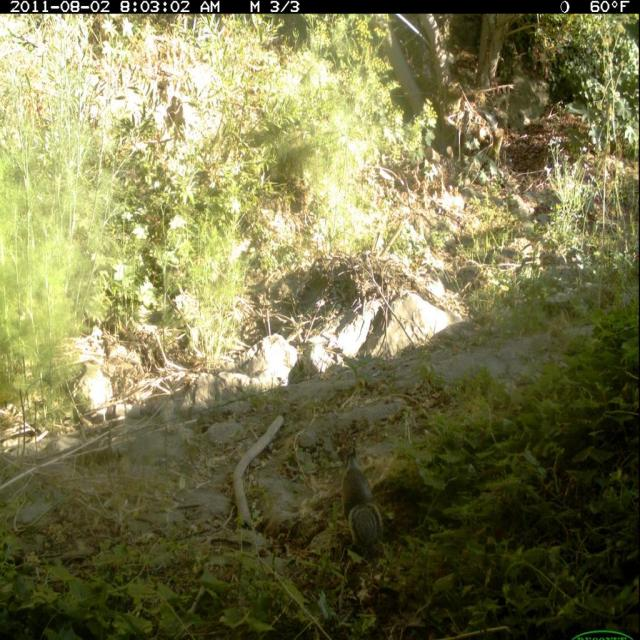squirrel: (336, 438, 396, 565)
